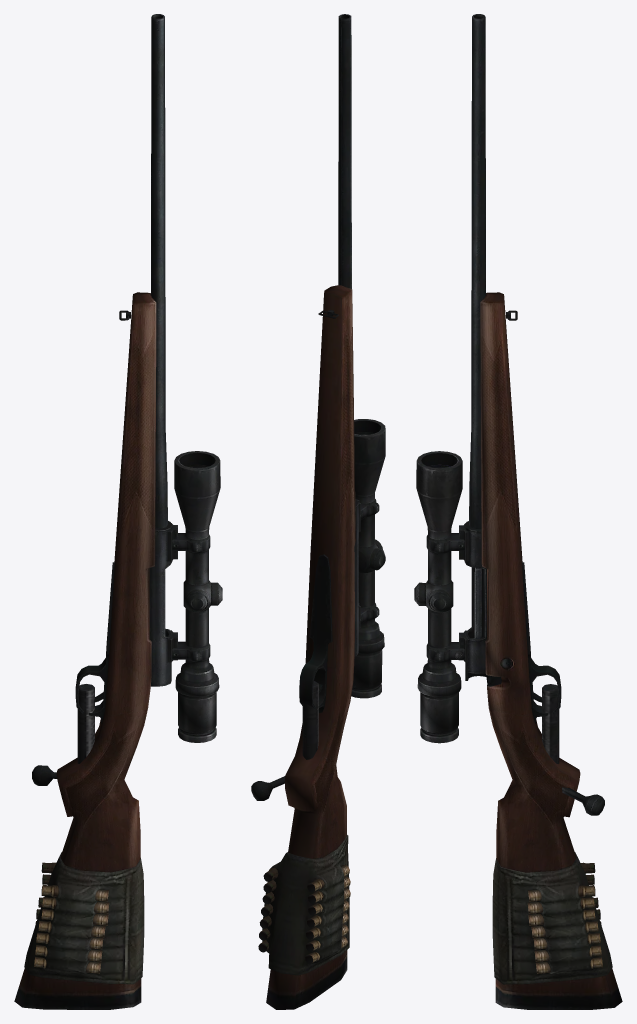
The model's file is Winchester_M70.obj.
3 views of the same model, side by side, from view 1: azimuth 90°, elevation 25°; view 2: azimuth 150°, elevation 25°; view 3: azimuth 270°, elevation 25° (orthographic). The views are drawn at different scales.
Parts seen in each view (by area): view 1: Model_M70, Model_Handle02; view 2: Model_M70, Model_Handle02, Model_Handle01; view 3: Model_M70, Model_Handle02, Model_Handle01.
Boxes of the visible parts, bbox=[...] form: Model_M70: bbox=[14, 14, 222, 1009]; Model_Handle02: bbox=[77, 684, 94, 763]; Model_M70: bbox=[258, 14, 385, 1009]; Model_Handle02: bbox=[302, 681, 318, 759]; Model_Handle01: bbox=[251, 776, 284, 800]; Model_M70: bbox=[414, 14, 622, 1009]; Model_Handle02: bbox=[542, 684, 559, 763]; Model_Handle01: bbox=[562, 787, 604, 815].
Bounding box in the file's own units: 0.0809 × 1.05 × 0.2006.
Materials: 3 (3 with a texture image).
